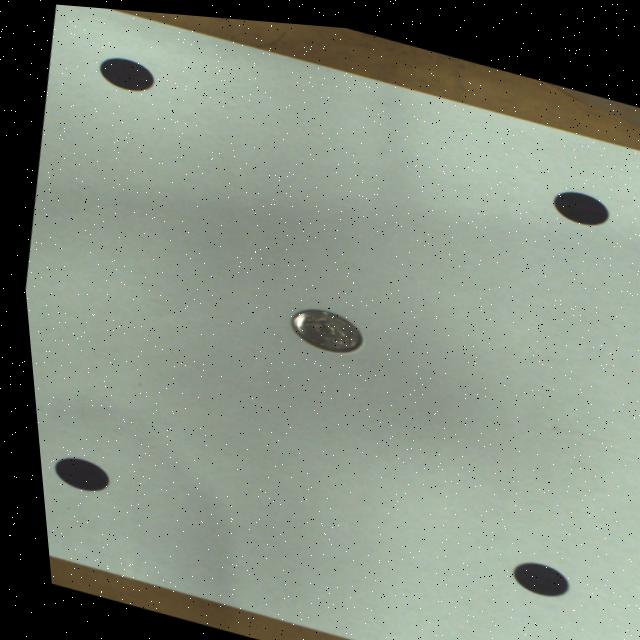head1bath: (286, 304, 357, 347)
space: (551, 181, 607, 215), (503, 553, 558, 587), (99, 55, 152, 88), (47, 457, 99, 489)
